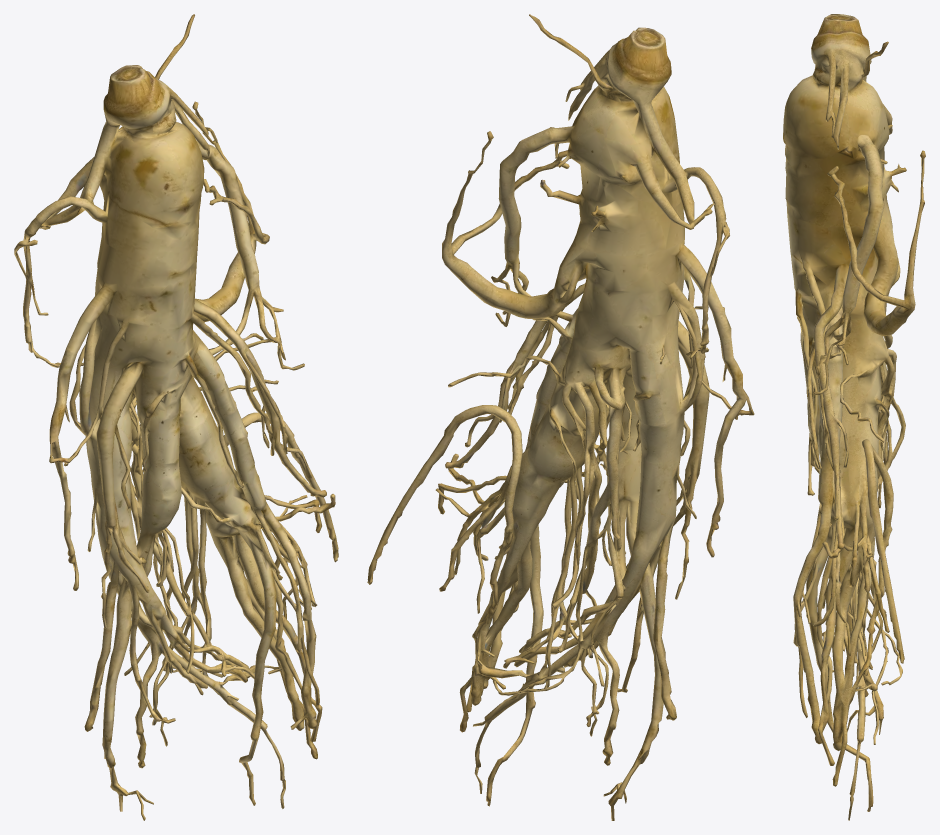
Rendered from ginseng-root.glb.
The picture shows the model from 3 angles, left to right: view 1: azimuth 30°, elevation 25°; view 2: azimuth 150°, elevation 25°; view 3: azimuth 270°, elevation 25°; orthographic projection. The views are drawn at different scales.
Bounding box in the file's own units: 0.8434 × 1.9 × 0.3292.
Materials: 1 (1 with a texture image).
